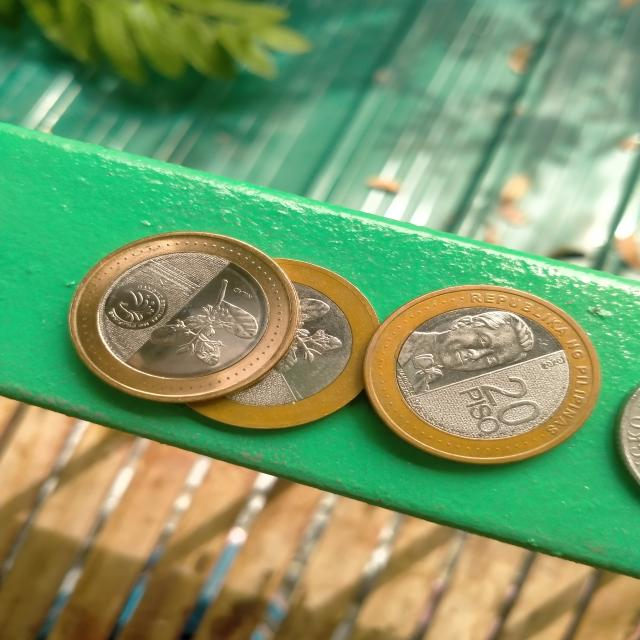20_New_Back: (148, 277, 260, 376)
20_New_Front: (442, 375, 548, 436)
